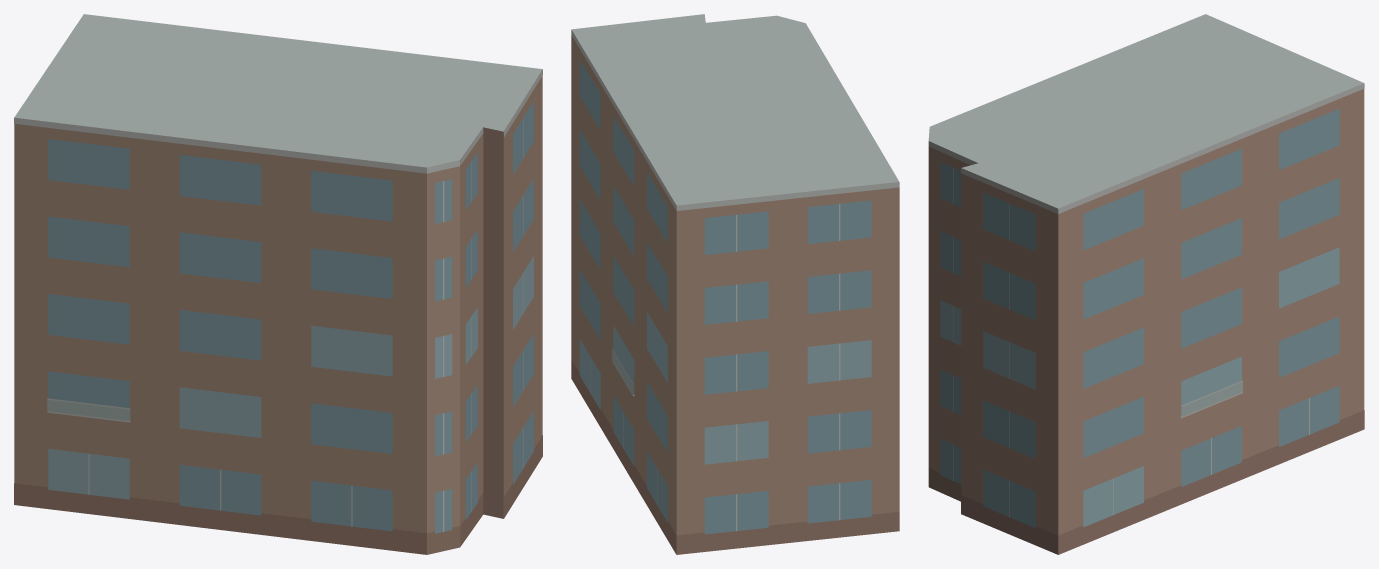
Rendered from survey-upis-32623076.glb.
3 renders of one model, left to right at view 1: azimuth 30°, elevation 25°; view 2: azimuth 150°, elevation 25°; view 3: azimuth 270°, elevation 25°, orthographic. The views are drawn at different scales.
Parts seen in each view (by area): view 1: survey-upis-32623076.tmp; view 2: survey-upis-32623076.tmp; view 3: survey-upis-32623076.tmp.
Part boxes in pixels (x1,y1,x2,y2): survey-upis-32623076.tmp: [14, 14, 542, 554]; survey-upis-32623076.tmp: [571, 14, 899, 554]; survey-upis-32623076.tmp: [928, 14, 1364, 554].
Size of the model in its own units: 18.82 by 15.6 by 17.81.
